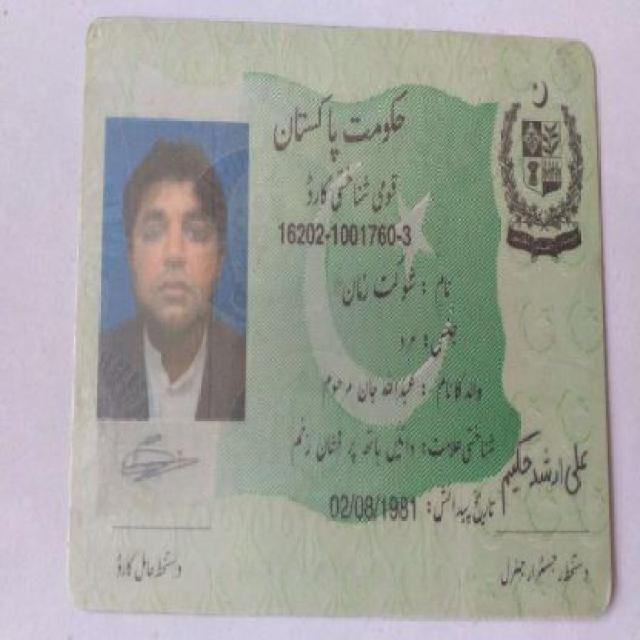Front: (72, 13, 617, 624)
